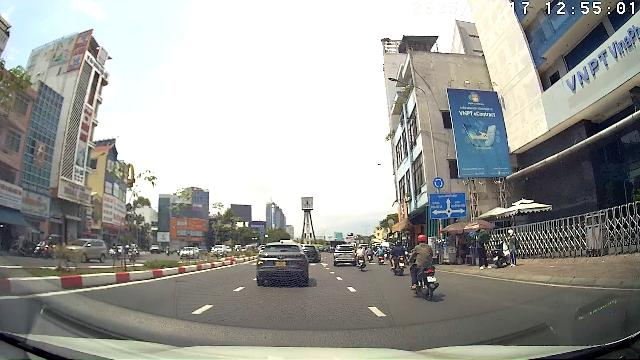303-noi-giao-nhau-chay-theo-vong-xuyen: (434, 178, 444, 188)
